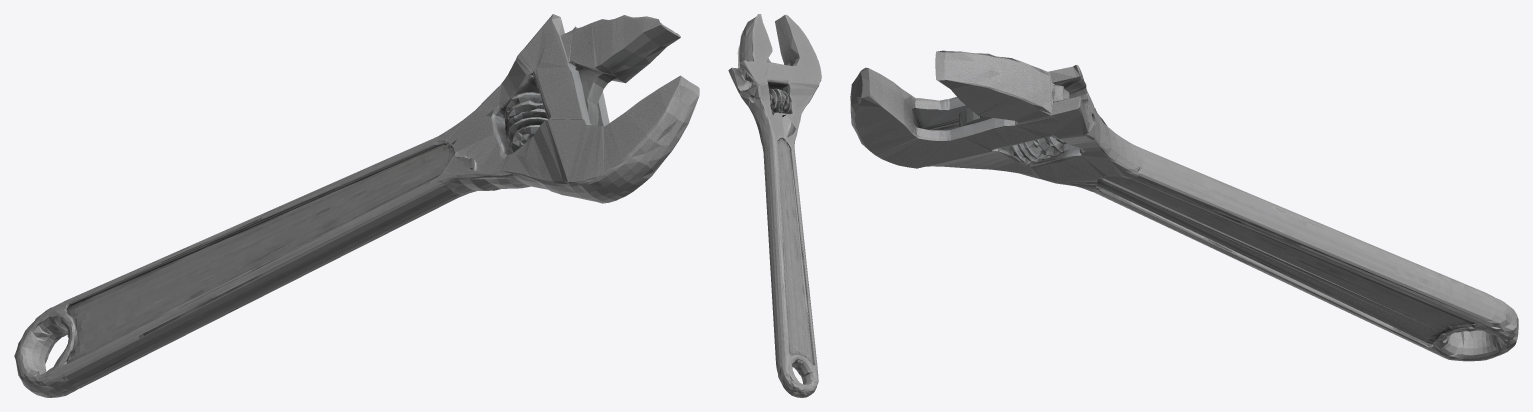
Rendered from ewm_wrench.glb.
The picture shows the model from 3 angles, left to right: view 1: azimuth 30°, elevation 25°; view 2: azimuth 150°, elevation 25°; view 3: azimuth 270°, elevation 25°; orthographic projection. The views are drawn at different scales.
Visible parts, largest first — view 1: ewm_wrench; view 2: ewm_wrench; view 3: ewm_wrench.
Boxes of the visible parts, <box> form: ewm_wrench: <box>14,14,699,397</box>; ewm_wrench: <box>728,14,821,397</box>; ewm_wrench: <box>850,50,1518,361</box>.
Size of the model in its own units: 0.1529 by 0.1782 by 0.2234.
Materials: 1 (1 with a texture image).
